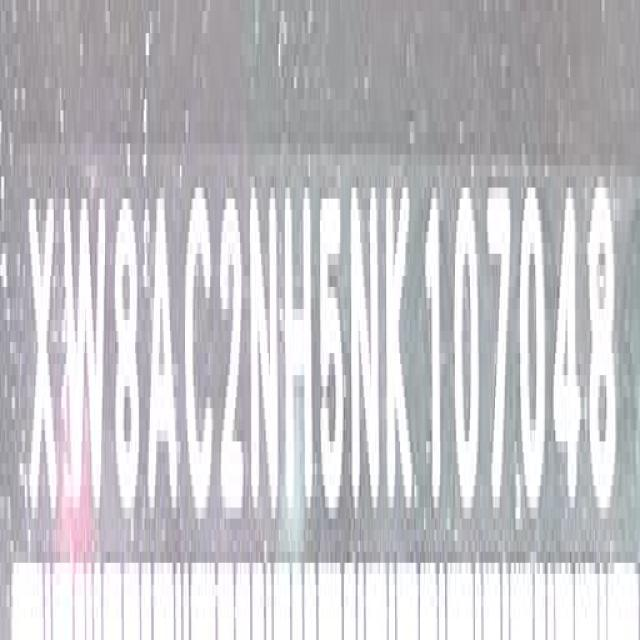0: (521, 172, 548, 520), (453, 175, 479, 523)
1: (423, 166, 443, 524)
2: (218, 184, 245, 528)
4: (552, 172, 582, 518)
5: (318, 178, 344, 522)
7: (486, 168, 513, 527)
8: (588, 177, 616, 512), (115, 187, 141, 522)
A: (147, 182, 177, 532)
C: (186, 185, 216, 528)
H: (285, 178, 314, 524)
K: (385, 172, 413, 535)
N: (249, 176, 282, 535), (351, 174, 382, 520)
W: (64, 188, 107, 515)
X: (25, 189, 56, 528)
